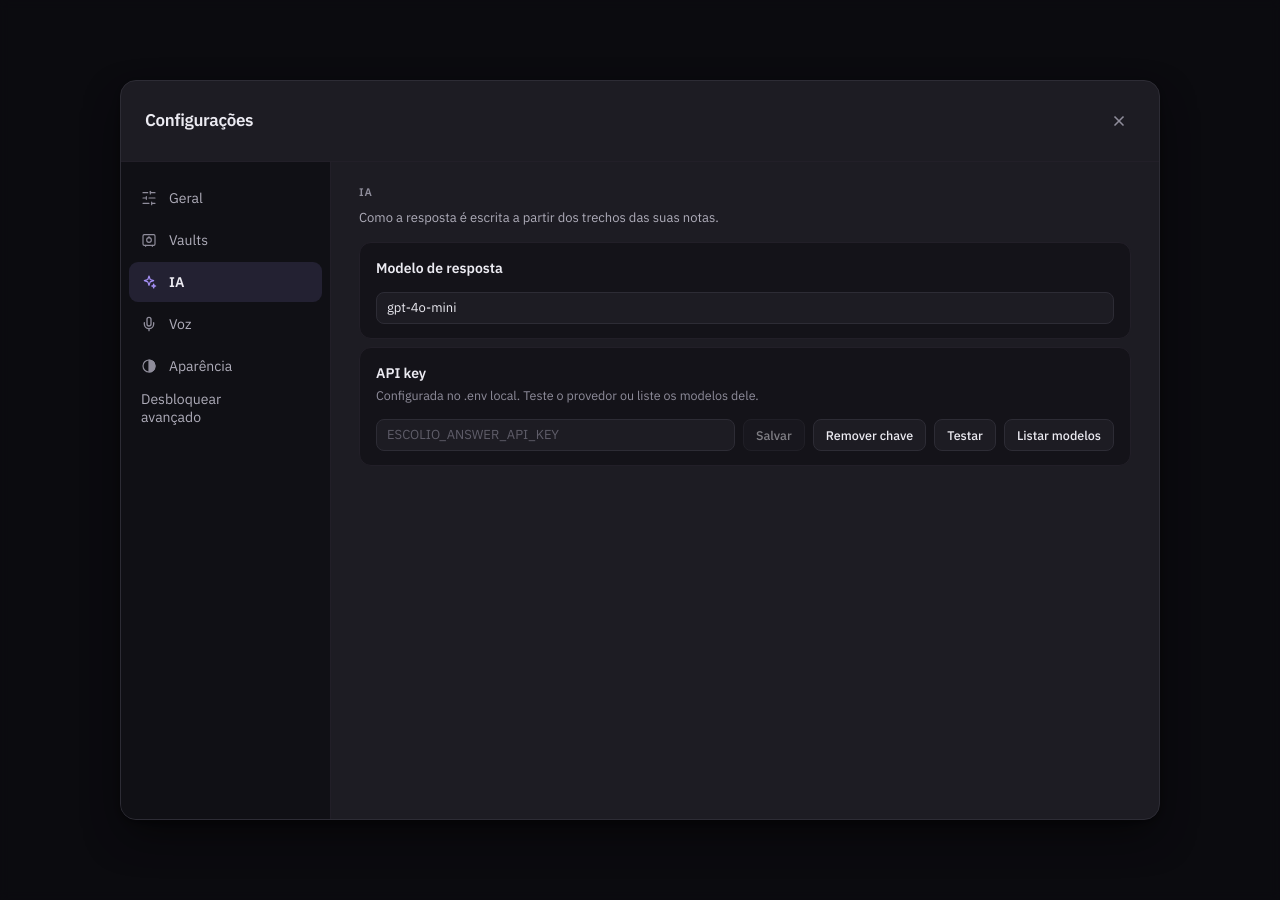
Test: SettingsModal: chave de API, remoção e rótulos do catálogo › Remover chave: tirar o foco do botão cancela a confirmação sem apagar a chave
The width and height of the screenshot is (1280, 900).
Click the button "Remover chave".
click(870, 435)  # box [813,419,926,451]
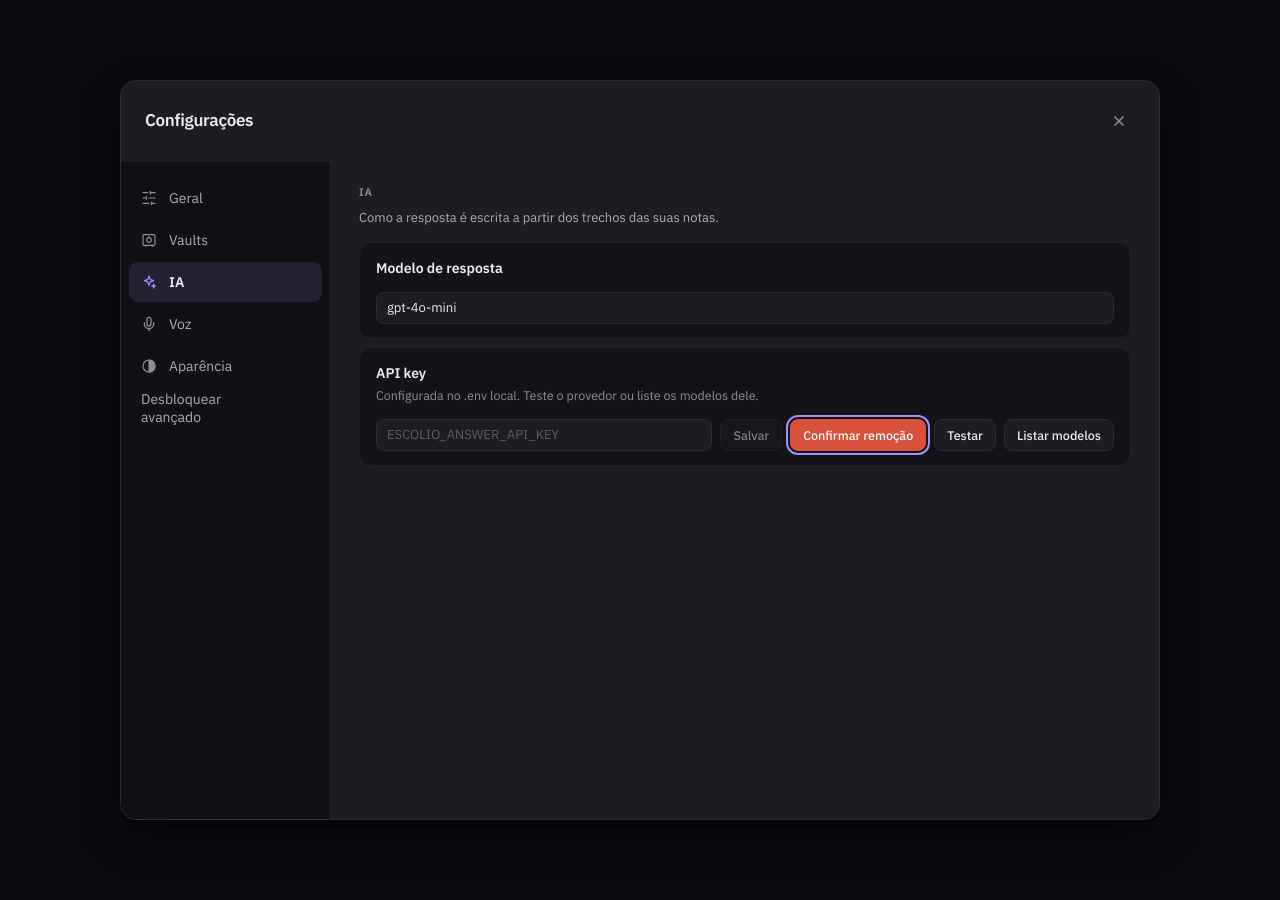
Leave the button "Confirmar remoção", box [790,419,926,451]
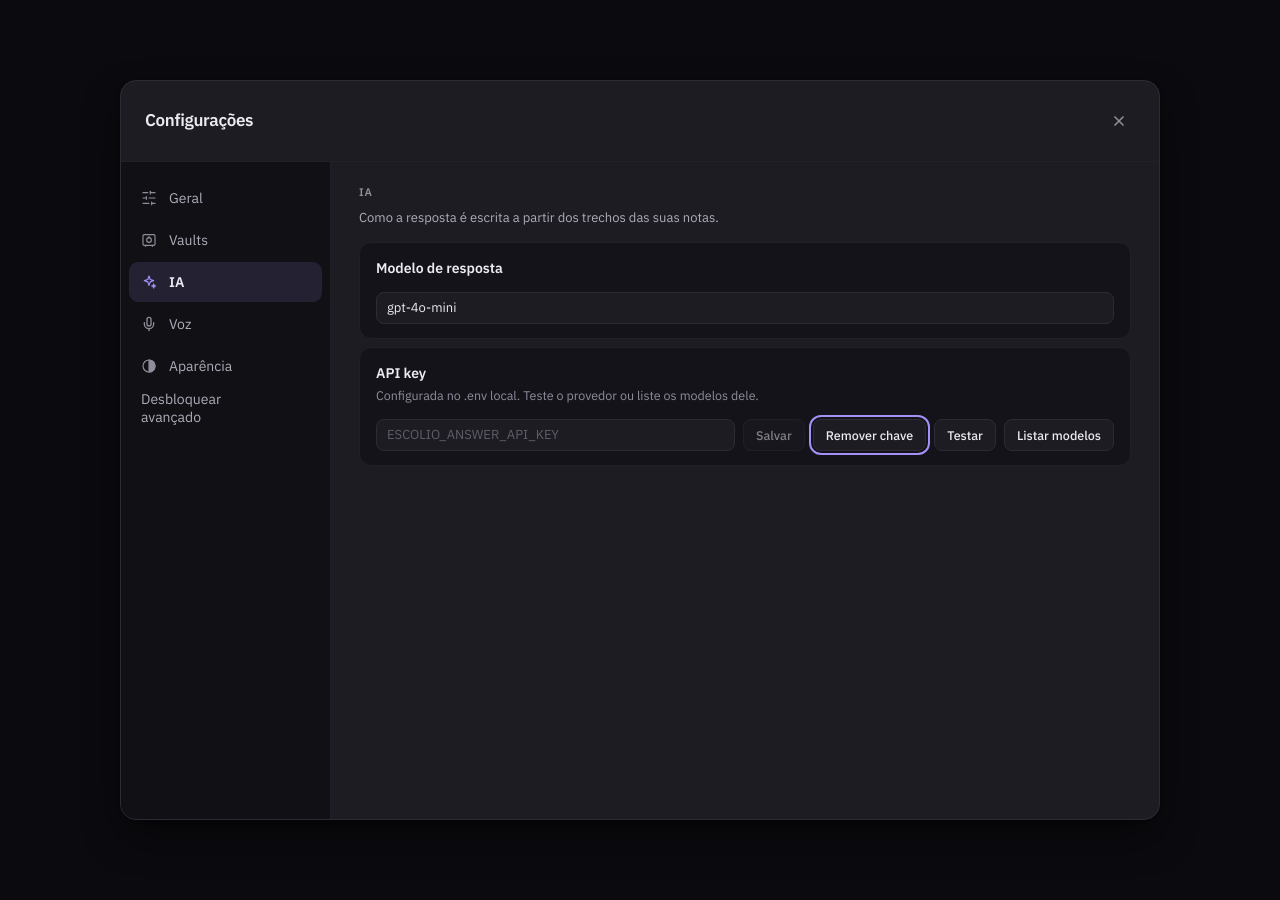
Expected: the button "Remover chave" is shown, [813,419,926,451]
